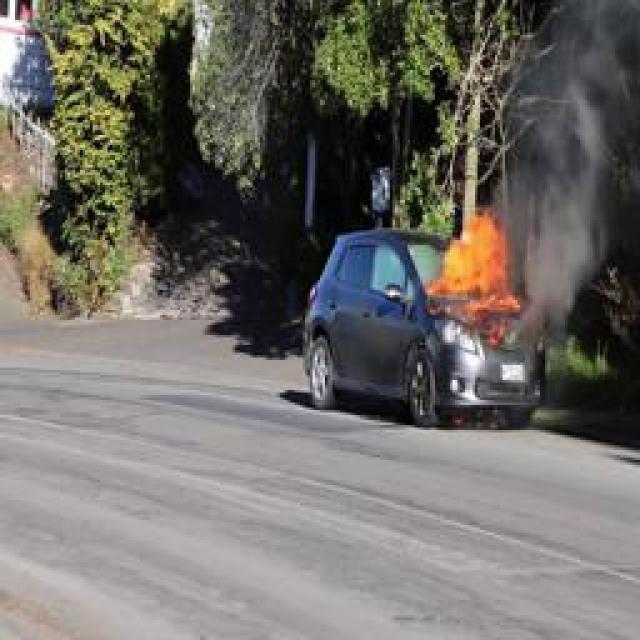Fire: (430, 210, 522, 350)
Smoke: (540, 94, 614, 306)
